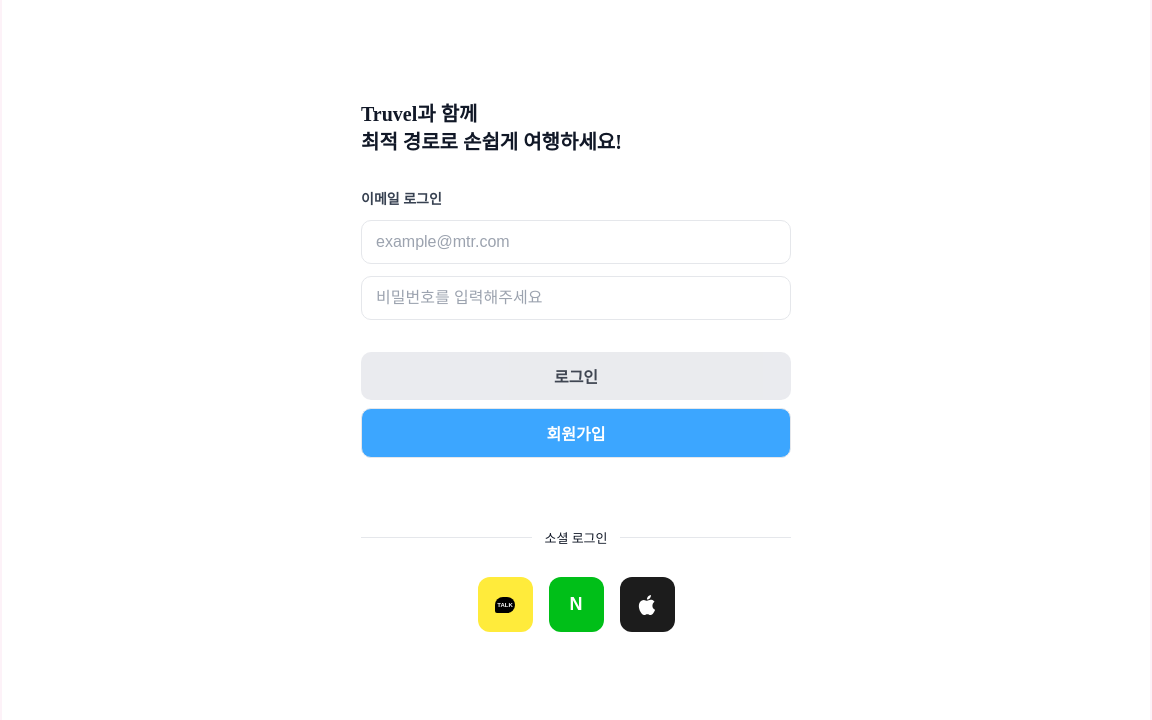
it: LoginPage › 유닛 테스트 - UI 렌더링 및 유효성 검사 › 유효하지 않은 이메일 입력 시 에러 메시지가 표시된다
Type "invalid-email" into the field with placeholder "example@mtr.com" at (576, 242), box [361,220,791,264]
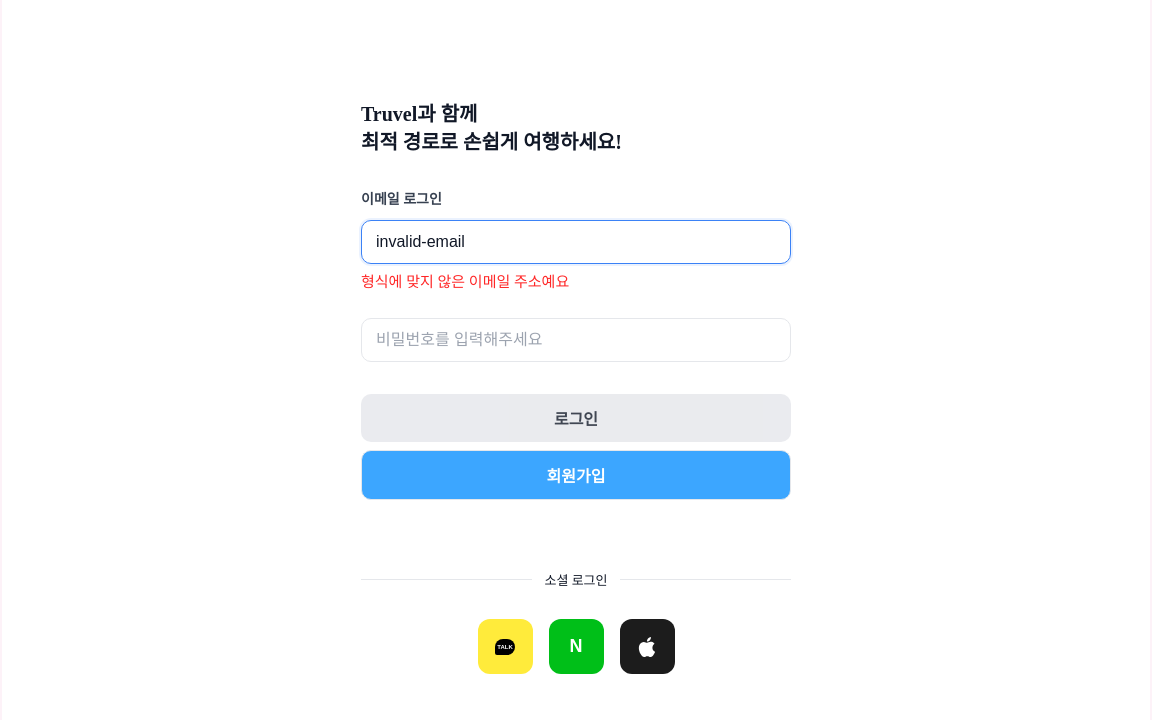
Expected: the text "형식에 맞지 않은 이메일 주소예요" is shown, [361,274,569,290]
